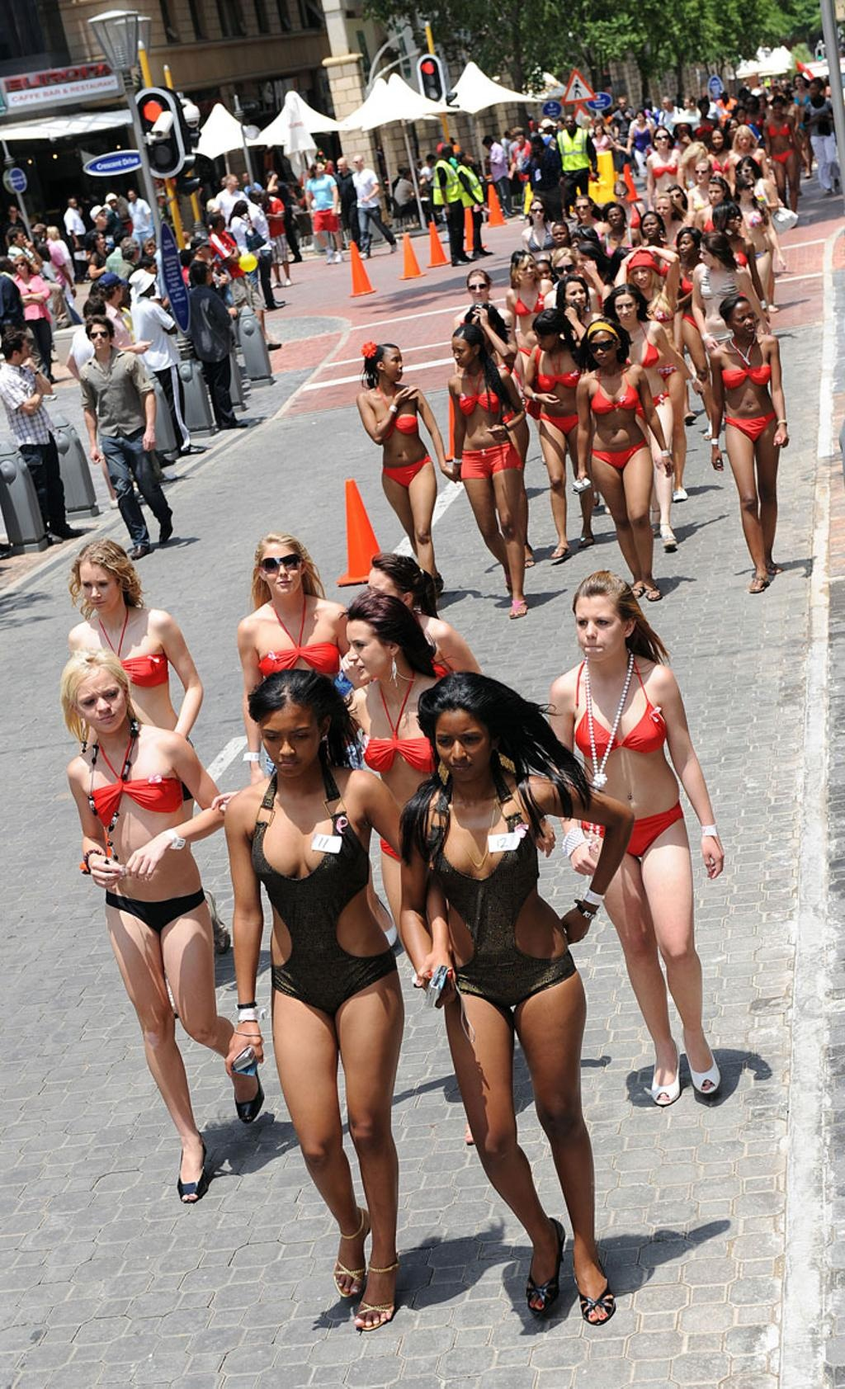human_face: (260, 707, 318, 777), (434, 716, 488, 781), (575, 601, 623, 661), (77, 673, 125, 732), (346, 623, 388, 680), (366, 568, 403, 619), (262, 547, 300, 594), (79, 566, 116, 612), (728, 302, 754, 337), (589, 335, 614, 365), (382, 350, 404, 381), (451, 336, 473, 367), (614, 297, 636, 322), (89, 325, 109, 349), (565, 284, 585, 308), (554, 258, 575, 280), (534, 328, 554, 351), (11, 338, 27, 364), (469, 278, 487, 300), (699, 243, 715, 267), (633, 267, 651, 288), (516, 260, 533, 282), (678, 235, 695, 257), (641, 216, 658, 238), (577, 253, 593, 274), (572, 236, 588, 257), (552, 226, 567, 245), (726, 208, 741, 227), (708, 185, 722, 205), (737, 164, 753, 181), (607, 208, 621, 227), (656, 199, 670, 218), (575, 200, 589, 218), (536, 265, 550, 282), (531, 203, 544, 221), (695, 164, 708, 182), (727, 120, 739, 139), (655, 132, 668, 149), (109, 283, 122, 299), (669, 191, 682, 207), (741, 182, 754, 198), (737, 132, 750, 148), (711, 132, 723, 149), (201, 265, 212, 283), (196, 241, 210, 255), (144, 279, 155, 295), (129, 243, 139, 259), (94, 211, 105, 225), (615, 187, 626, 201), (677, 126, 688, 140), (1, 260, 12, 272), (14, 232, 24, 245), (772, 103, 782, 116), (14, 262, 25, 273), (143, 244, 154, 255), (215, 215, 226, 226), (94, 234, 104, 246), (146, 263, 156, 275), (745, 97, 755, 109), (736, 109, 745, 122), (793, 77, 803, 88), (564, 117, 573, 129), (809, 84, 819, 94), (532, 143, 541, 154), (757, 98, 765, 110), (229, 177, 238, 187), (352, 158, 361, 168), (662, 97, 670, 108), (108, 199, 117, 208), (336, 162, 344, 172), (701, 103, 709, 113), (9, 206, 16, 217), (253, 191, 260, 202), (127, 191, 135, 200), (316, 164, 324, 173), (464, 154, 472, 163), (35, 227, 42, 237), (220, 177, 227, 187), (619, 98, 625, 109), (515, 135, 522, 144), (684, 99, 691, 108), (241, 203, 247, 213), (70, 199, 77, 207), (446, 148, 453, 156), (483, 142, 491, 149), (595, 127, 602, 135), (242, 174, 248, 183), (267, 177, 273, 185), (429, 158, 434, 167), (408, 172, 413, 180), (637, 114, 642, 122), (547, 125, 552, 131)
